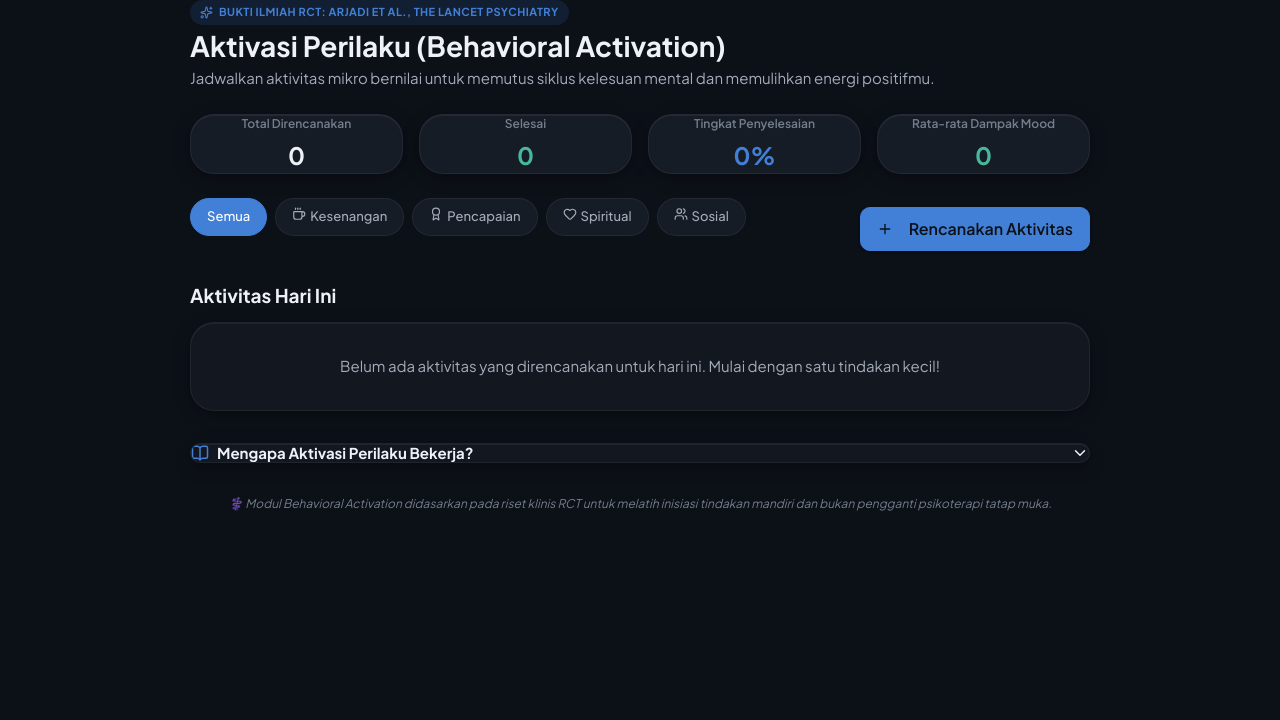
Test case: BehavioralActivation Page Component › completes an activity, calculates mood delta, and updates completion state
Schedule an activity first
Click the button "Rencanakan Aktivitas" at (975, 229), box [860,207,1090,251]
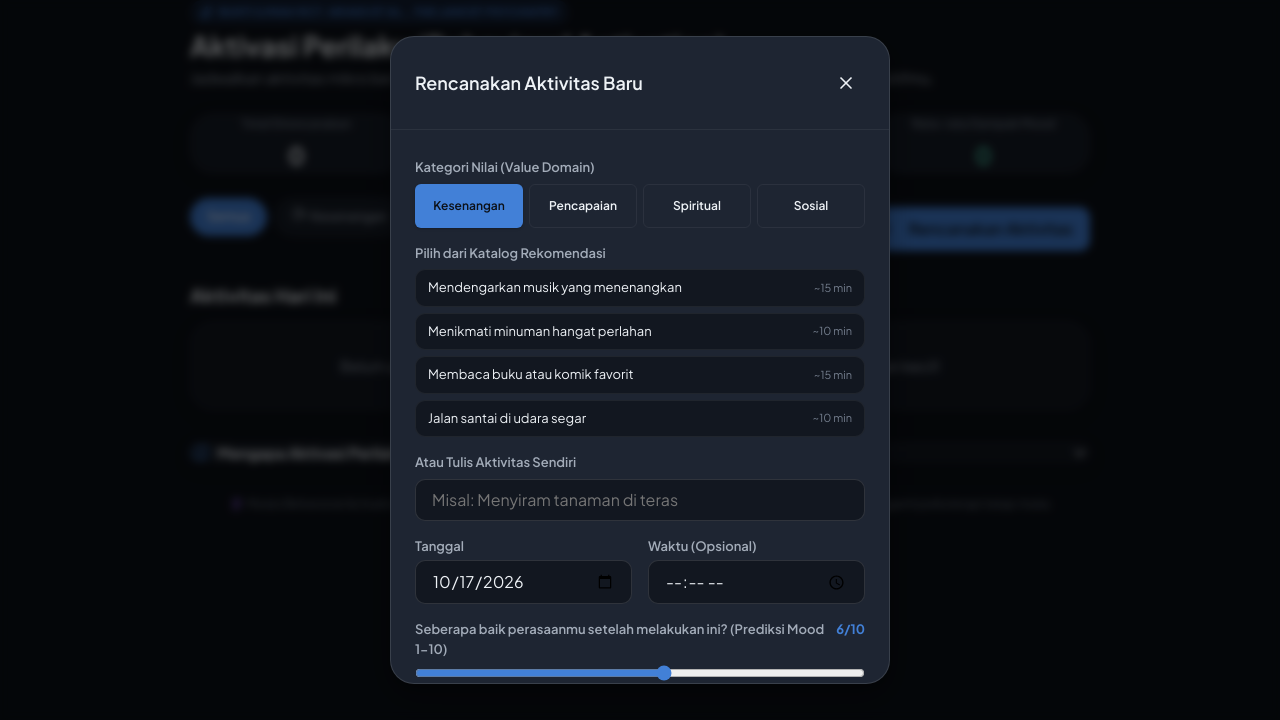
Switch to Mastery domain to show Merapikan tempat tidur
Click the button "Pencapaian" at (583, 206), box [529,184,637,228]
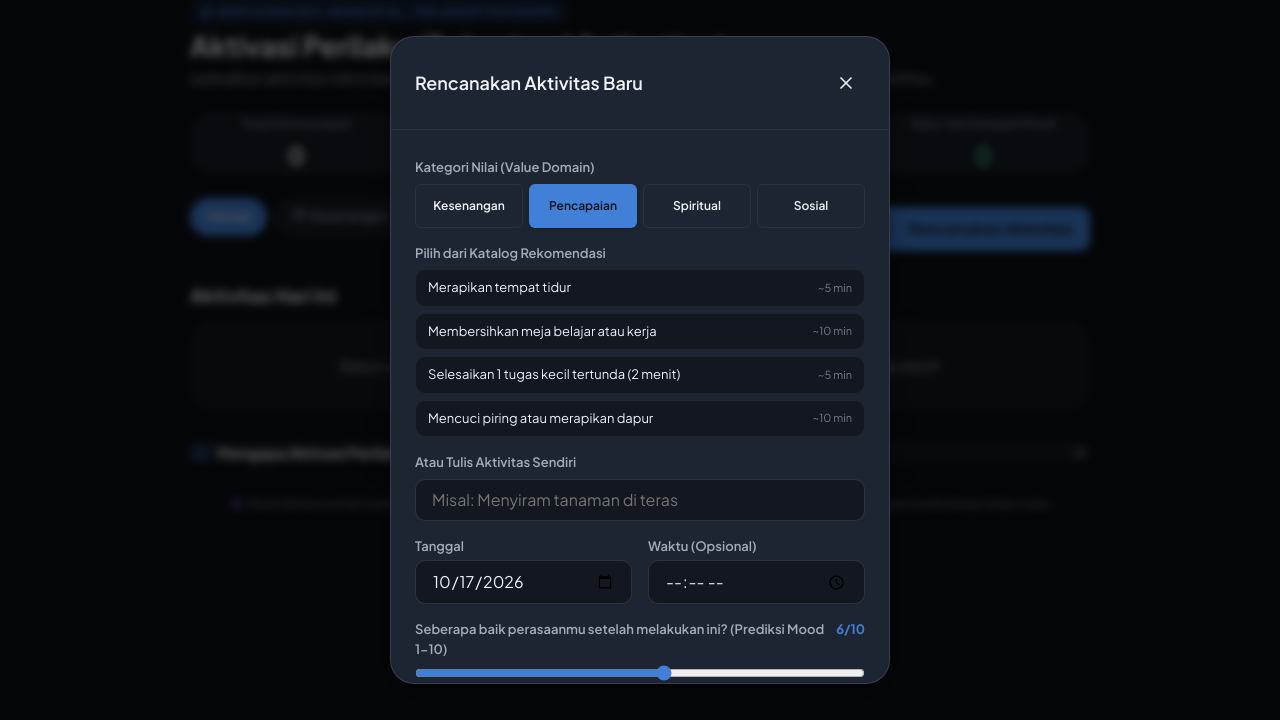
Click the text "Merapikan tempat tidur" at (499, 288), box [428,278,571,298]
(page scrolled)
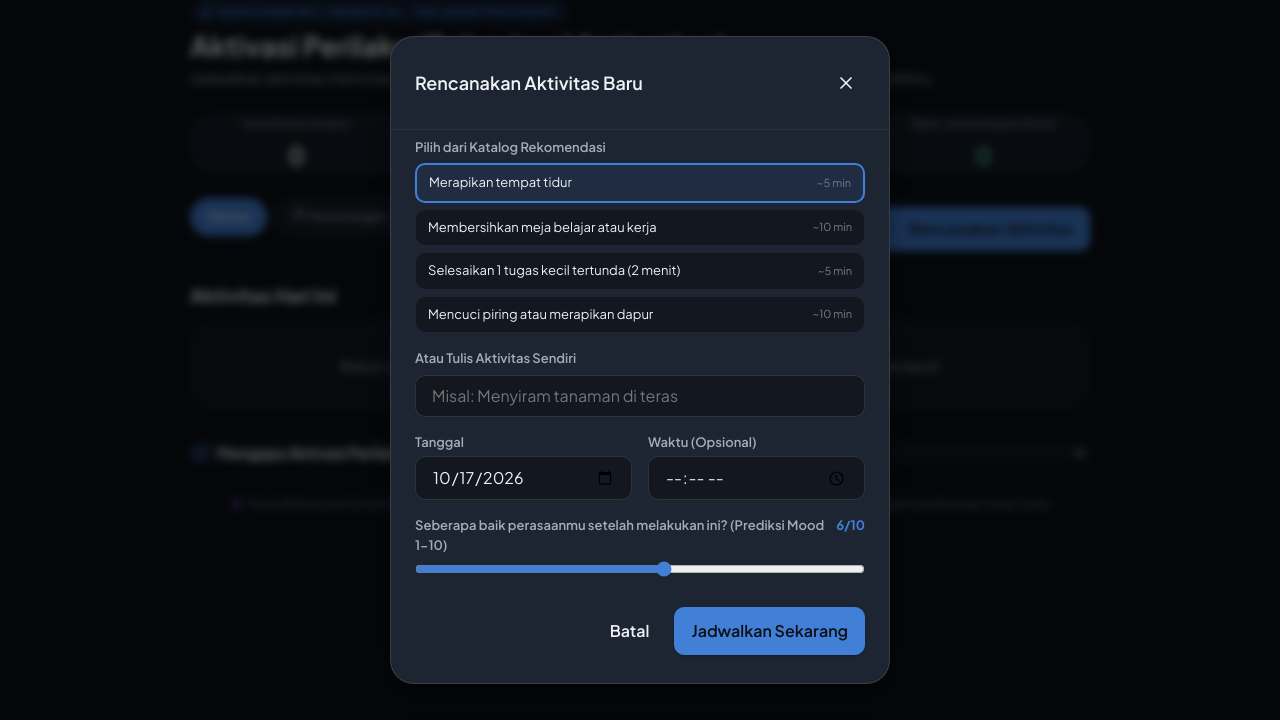
Click the button "Jadwalkan Sekarang" at (770, 631), box [674,607,865,655]
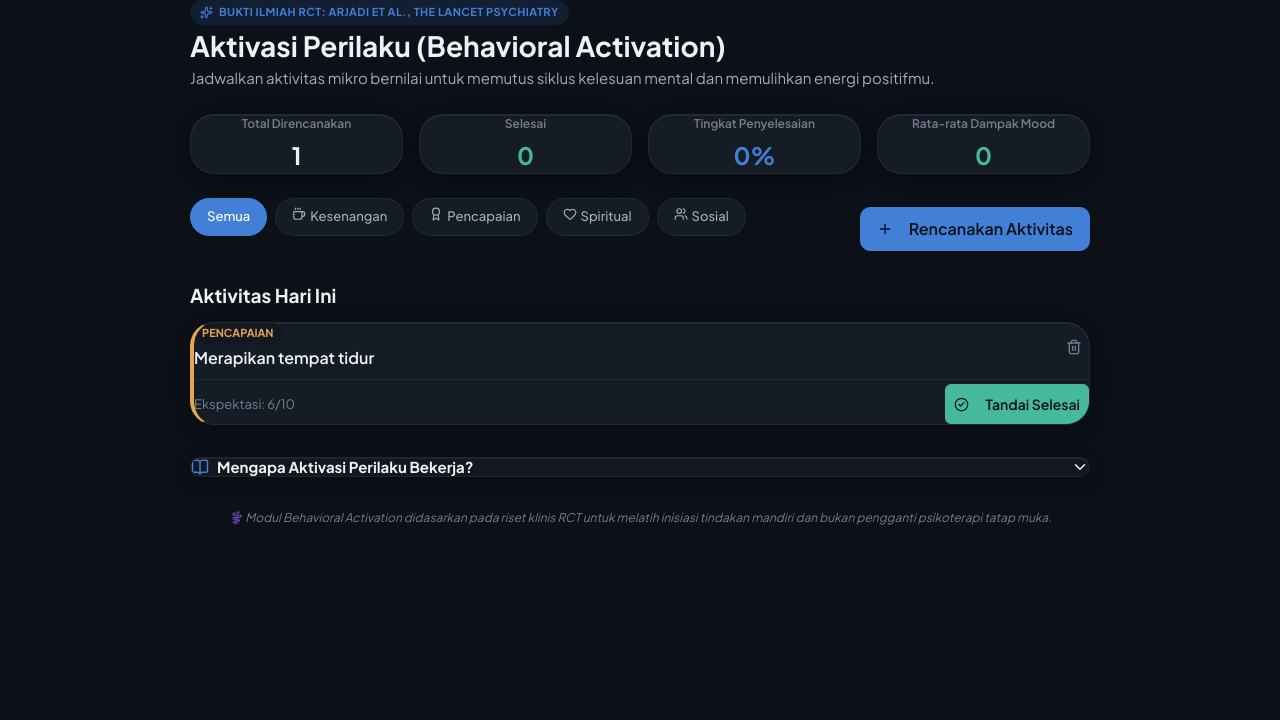
Click "Tandai Selesai"
Click the button "Tandai Selesai" at (1017, 404), box [945,384,1089,424]
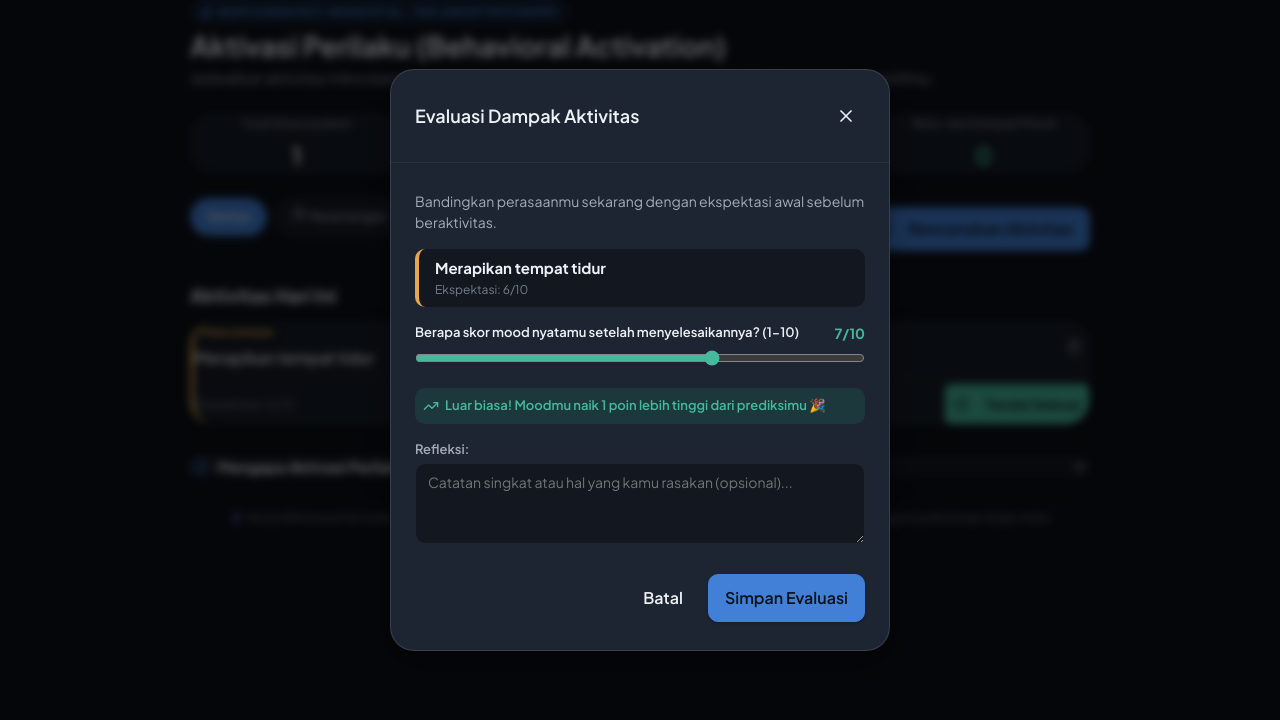
Result: the heading "Evaluasi Dampak Aktivitas" is shown at [415,105,639,126]
Change actual mood slider or submit default
Click the button "Simpan Evaluasi" at (786, 598), box [708,574,865,622]
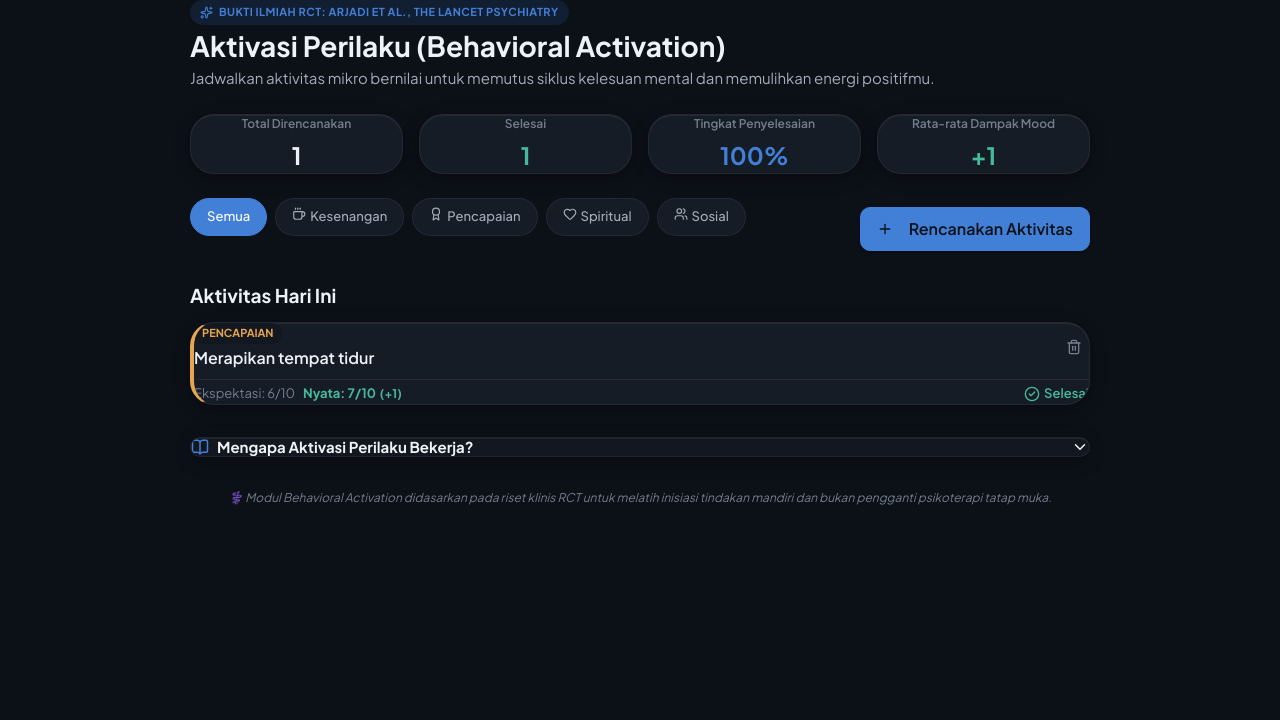
Result: the text "Nyata: 7/10(+1)" is shown at [303,384,402,404]
Result: the text "(+1)" is shown at [380,386,402,402]
